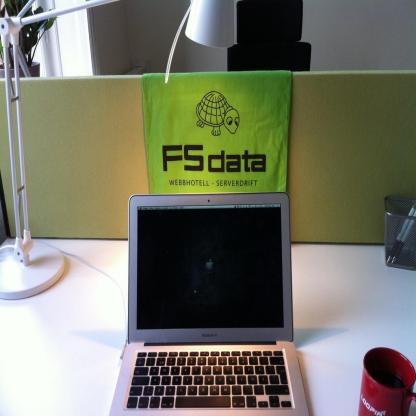board: (102, 191, 312, 411)
